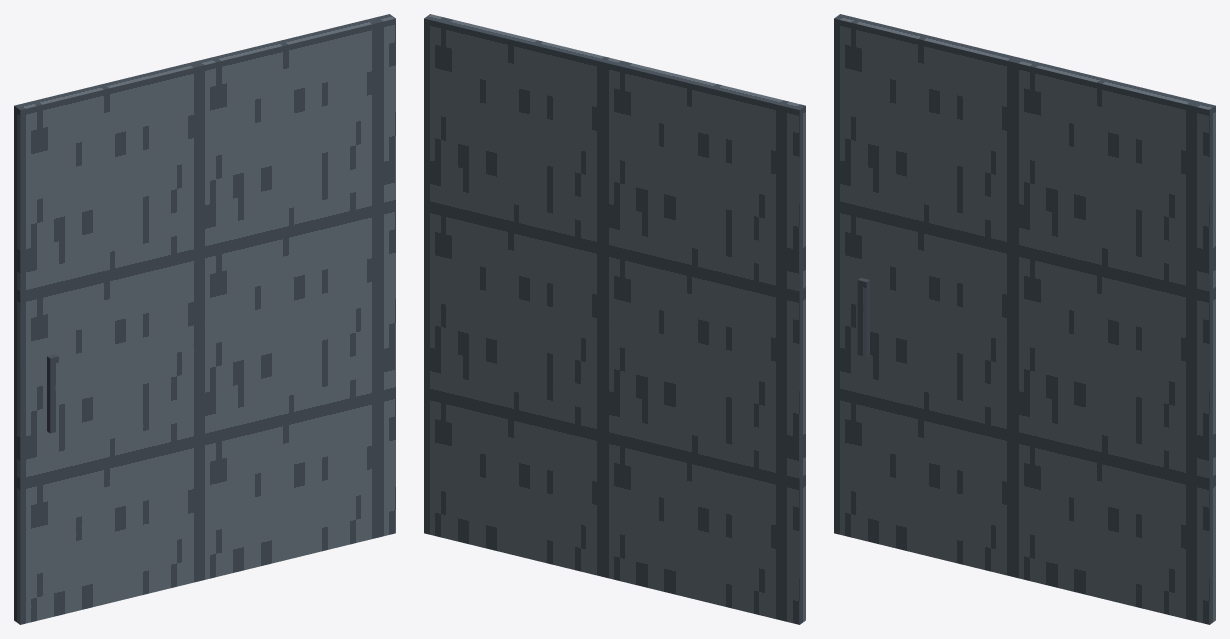
File: door_leaf.glb
The picture shows the model from 3 angles, left to right: view 1: azimuth 30°, elevation 25°; view 2: azimuth 150°, elevation 25°; view 3: azimuth 330°, elevation 25°; orthographic projection.
Visible parts, largest first — view 1: door_leaf mesh; view 2: door_leaf mesh; view 3: door_leaf mesh.
Boxes of the visible parts, left/top/right/bottom form: door_leaf mesh: left=14, top=14, right=395, bottom=624; door_leaf mesh: left=424, top=14, right=805, bottom=624; door_leaf mesh: left=834, top=14, right=1215, bottom=624.
Bounding box in the file's own units: 2.1 × 2.75 × 0.09.
Materials: 1 (1 with a texture image).
